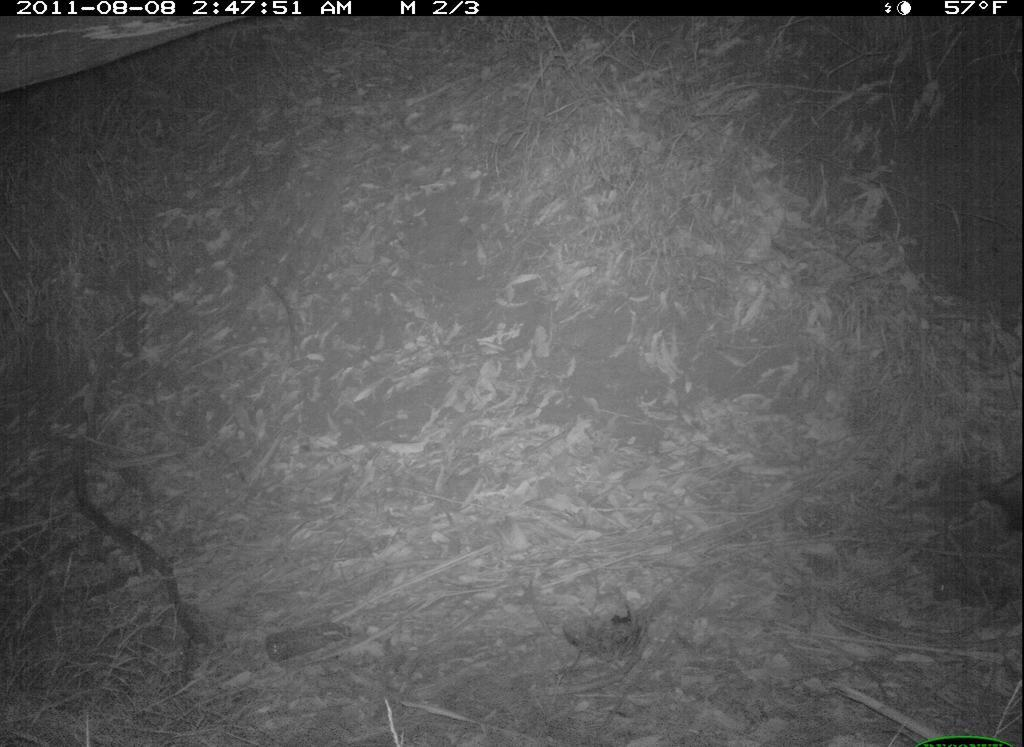opossum: (885, 463, 1024, 552)
